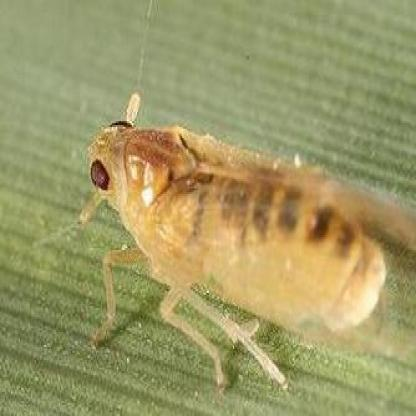brown-planthopper: (81, 113, 384, 336)
